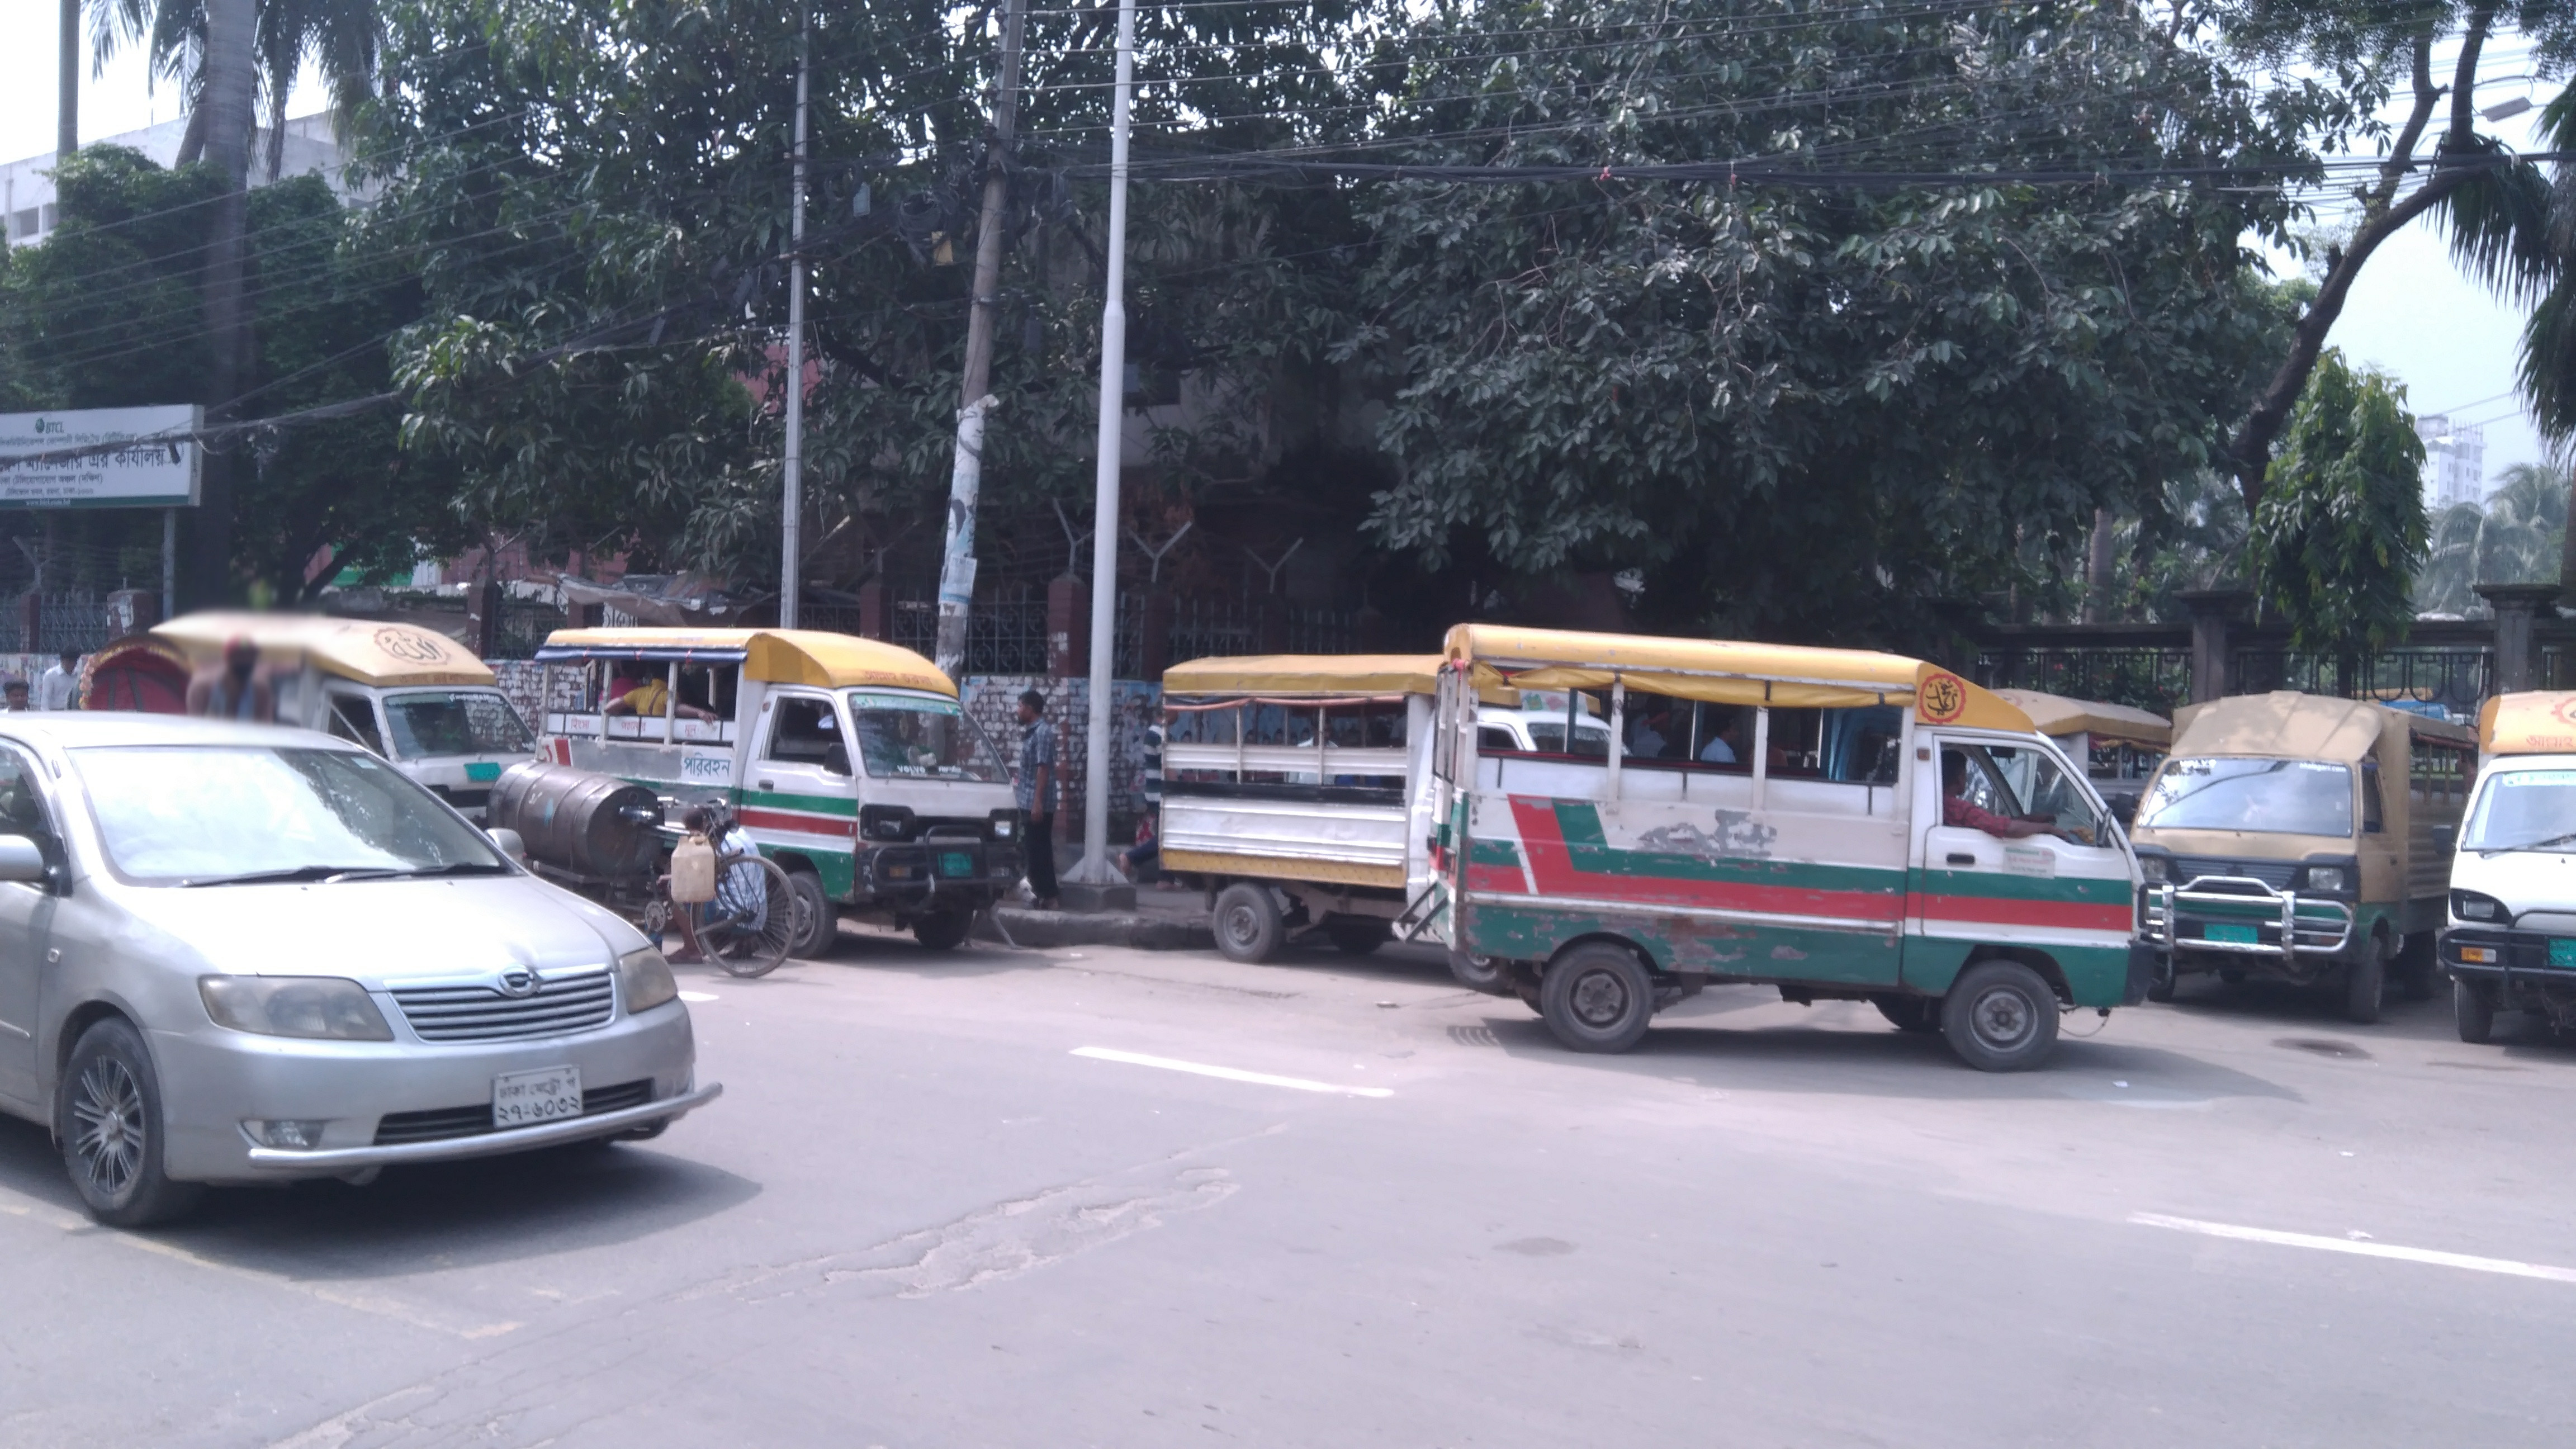car: (0, 706, 709, 1207)
leguna: (1431, 614, 2153, 1077), (1146, 640, 1661, 984), (524, 619, 1035, 934), (2125, 674, 2493, 1021), (152, 605, 568, 860), (2445, 679, 2576, 1042)
rickshaw: (65, 626, 200, 722)
